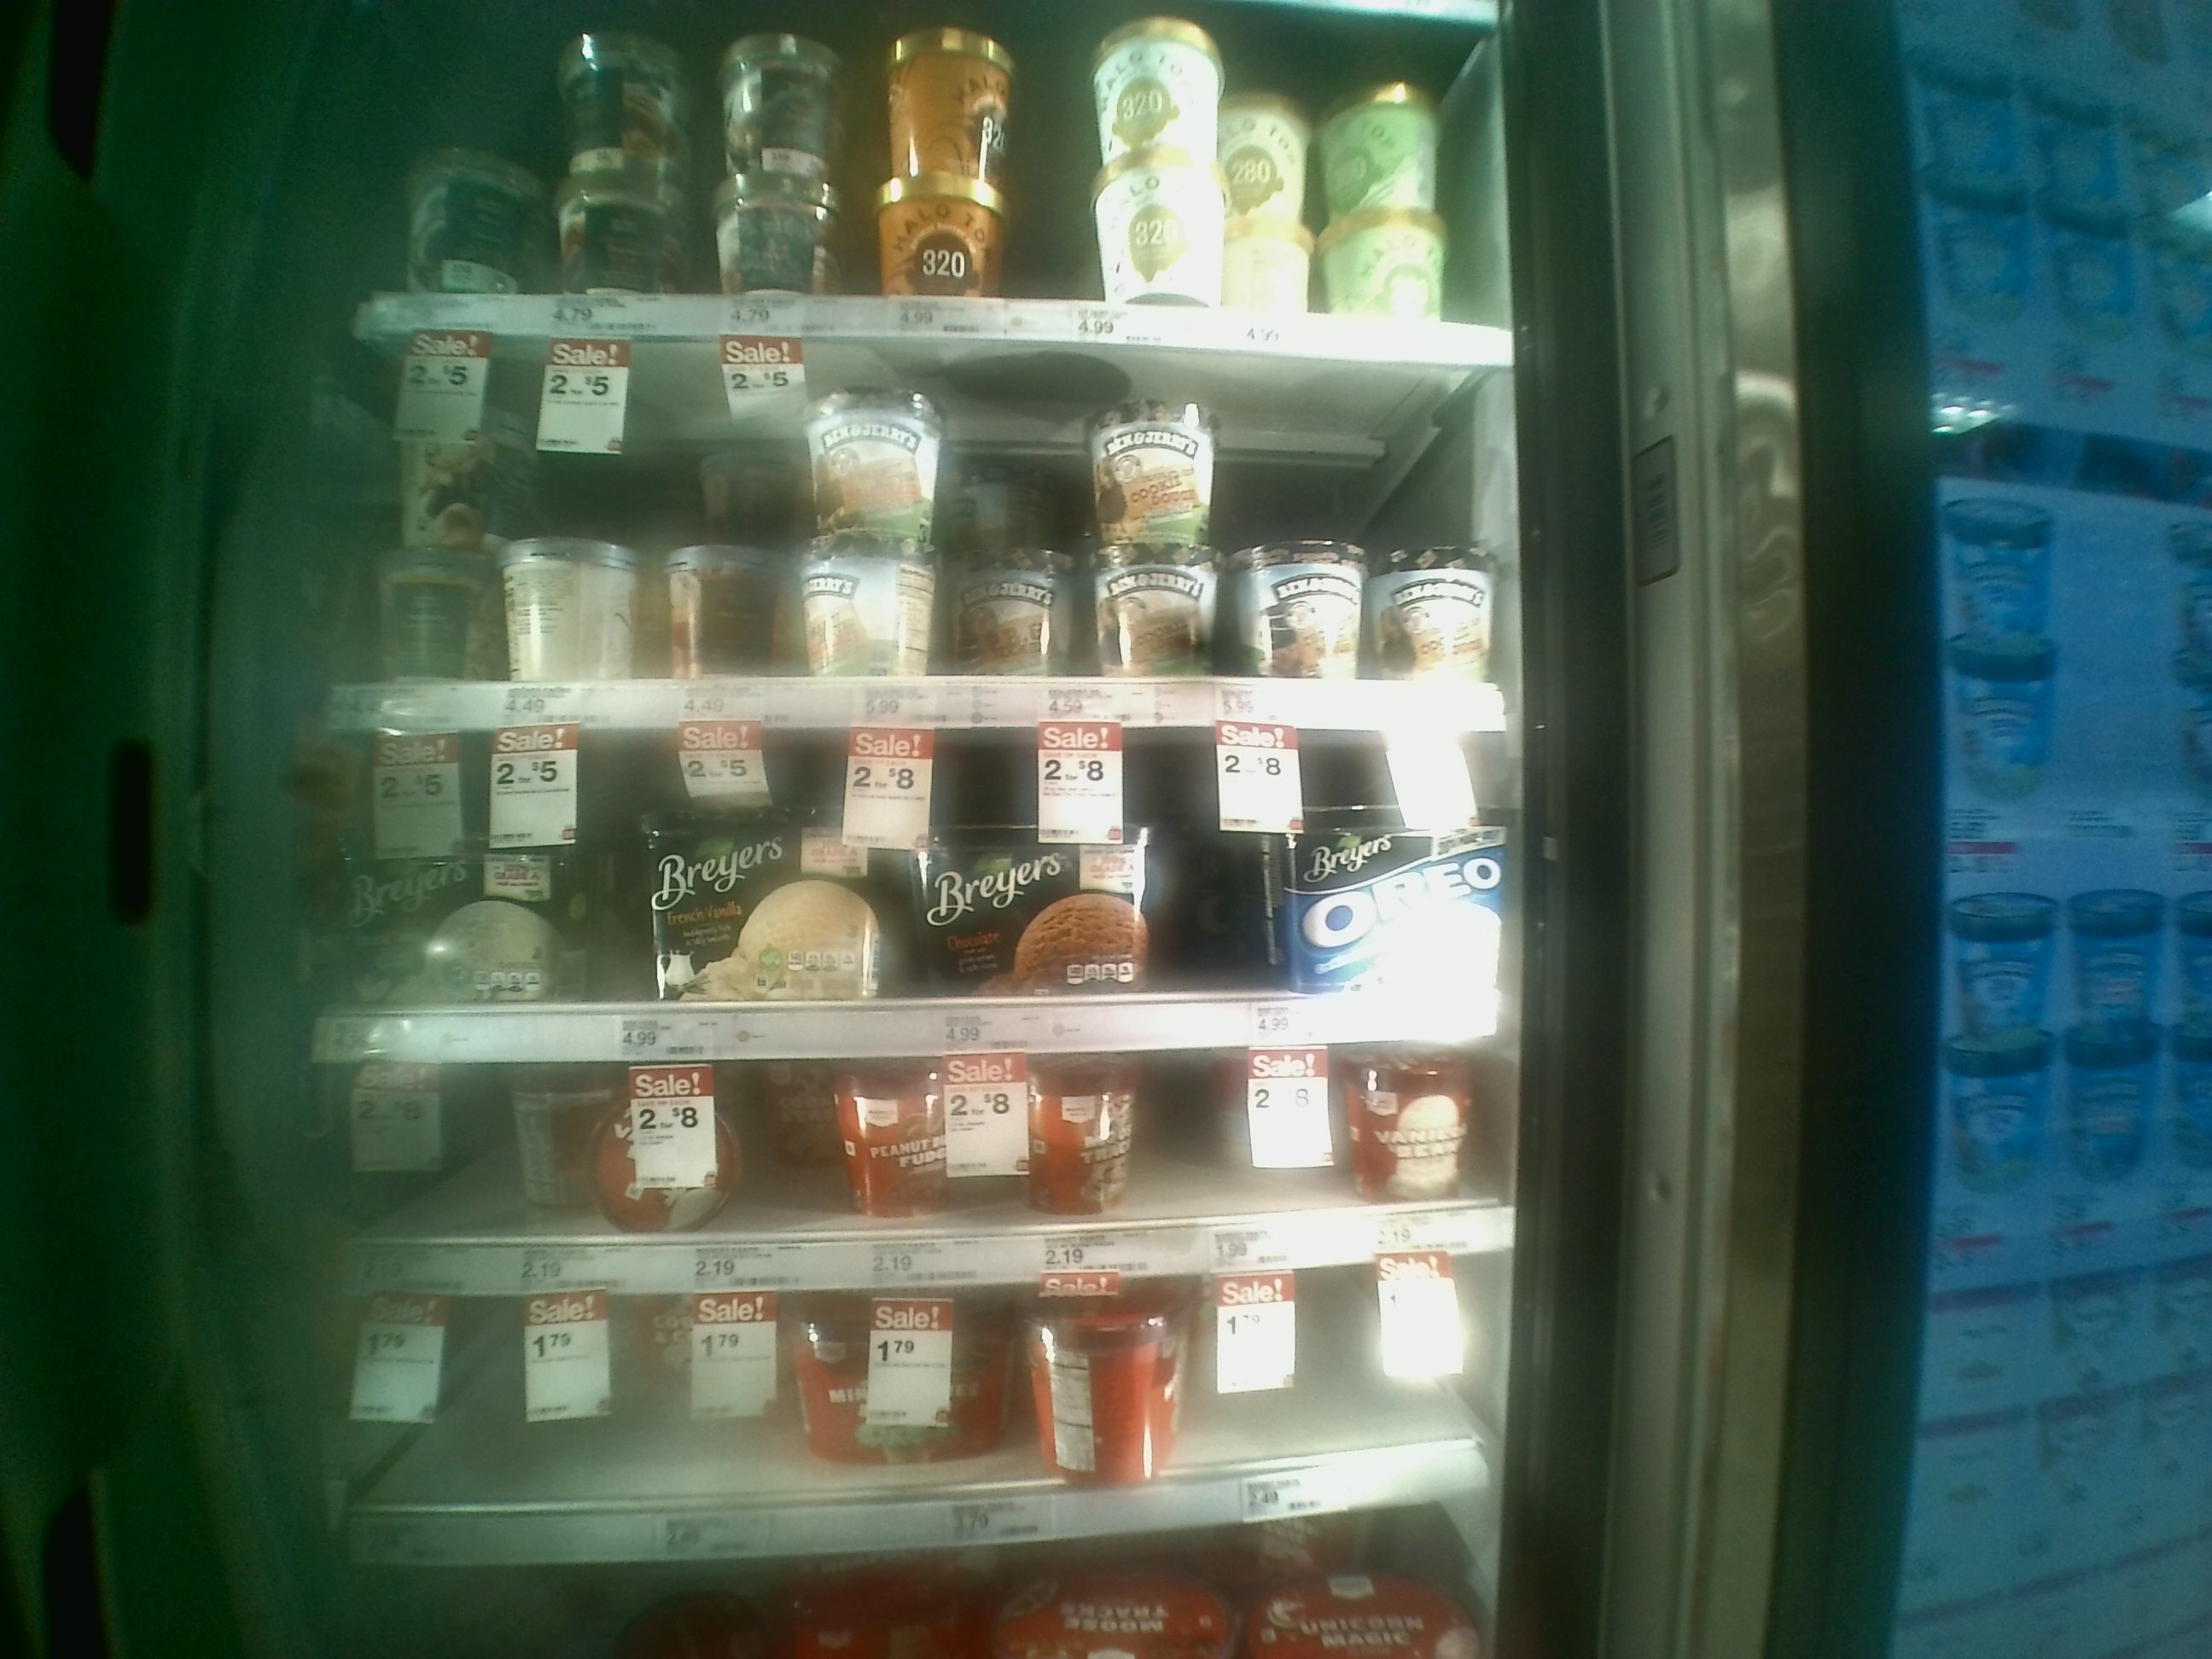ice-cream-shelf: (340, 338, 1494, 727), (314, 716, 1519, 1053), (343, 1049, 1505, 1298)
